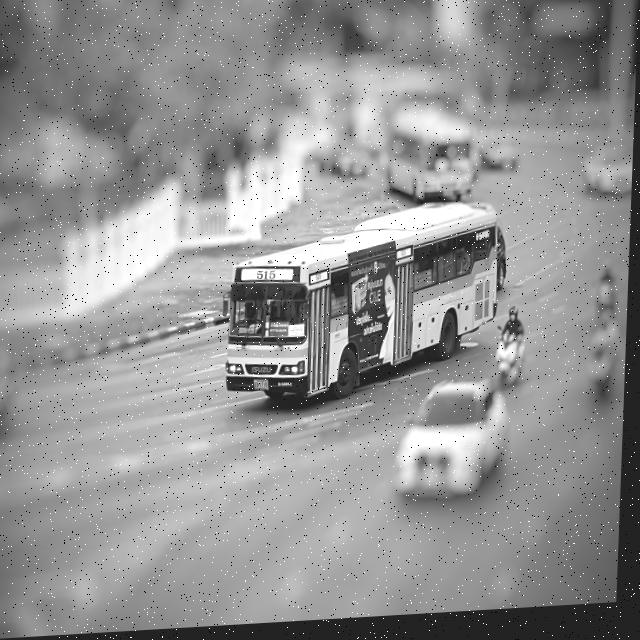BMTA-bus: (226, 207, 507, 410)
Bus Line Number: (253, 268, 285, 287)
Bus Side Number: (280, 381, 297, 393)
Destination Sign: (270, 324, 292, 341)
